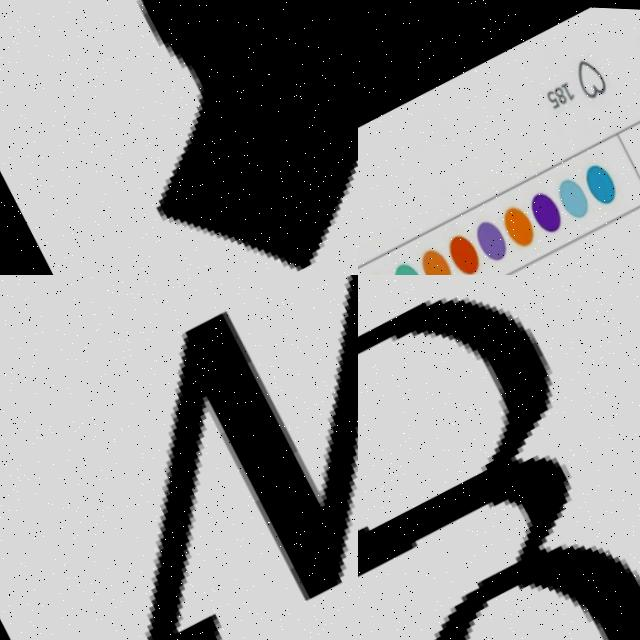1: (546, 87, 564, 109)
4: (553, 82, 572, 105)
G: (358, 275, 640, 640)
S: (0, 0, 358, 275)
W: (0, 275, 358, 640)
